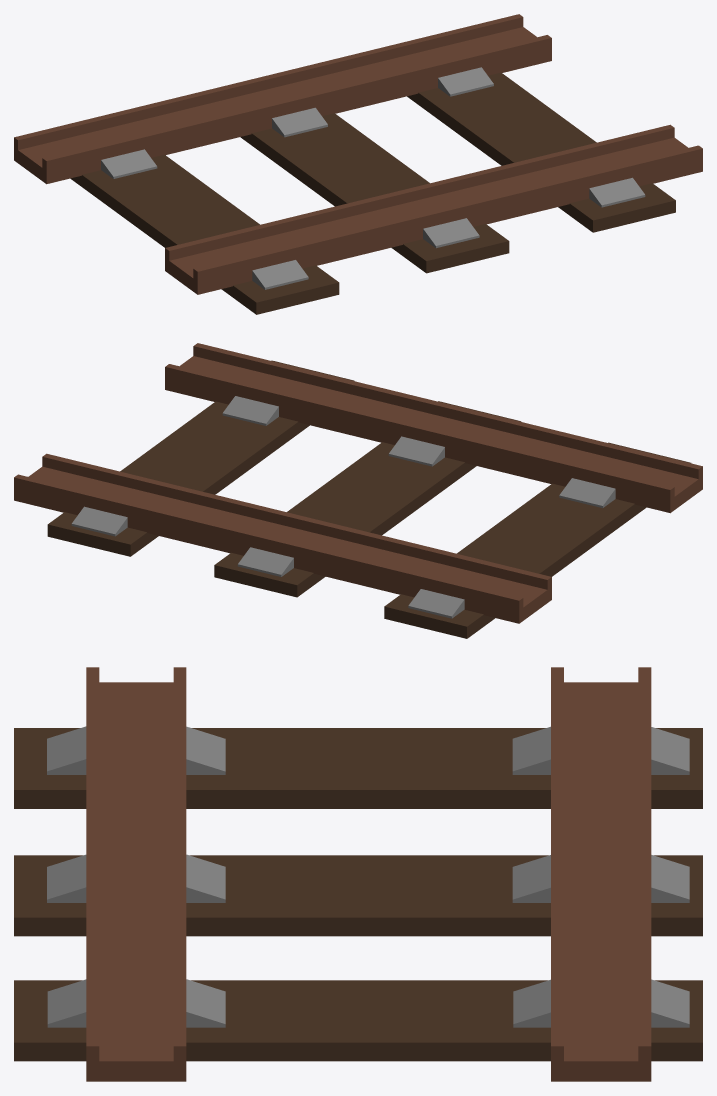
Rendered from Rail mine 5.fbx.
The picture shows the model from 3 angles, top to bottom: view 1: azimuth 30°, elevation 25°; view 2: azimuth 150°, elevation 25°; view 3: azimuth 270°, elevation 25°; orthographic projection. The views are drawn at different scales.
Visible parts, largest first — view 1: rail tout droit.001, planche rail 3, planche rail 2, planche rail1, soutien rail 1.004, soutien rail 1.003, soutien rail 1.002, soutien rail 1.005, soutien rail 1.006, soutien rail 1.007; view 2: rail tout droit.001, planche rail 3, planche rail1, planche rail 2, soutien rail 2.001, soutien rail 1, soutien rail 2, soutien rail 2.002, soutien rail 1.001, soutien rail 2.003; view 3: rail tout droit.001, planche rail 3, planche rail1, planche rail 2, soutien rail 1, soutien rail 1.004, soutien rail 1.002, soutien rail 1.003, soutien rail 2, soutien rail 2.001, soutien rail 1.001, soutien rail 1.005 (+4 smaller).
Part boxes in pixels (x1=…): rail tout droit.001: x1=14, y1=14, x2=702, y2=294; planche rail 3: x1=407, y1=72, x2=675, y2=232; planche rail 2: x1=70, y1=154, x2=339, y2=314; planche rail1: x1=240, y1=113, x2=509, y2=273; soutien rail 1.004: x1=252, y1=260, x2=308, y2=289; soutien rail 1.003: x1=423, y1=218, x2=479, y2=248; soutien rail 1.002: x1=589, y1=177, x2=645, y2=207; soutien rail 1.005: x1=101, y1=149, x2=157, y2=178; soutien rail 1.006: x1=272, y1=107, x2=327, y2=137; soutien rail 1.007: x1=438, y1=67, x2=493, y2=96; rail tout droit.001: x1=14, y1=343, x2=702, y2=623; planche rail 3: x1=47, y1=360, x2=354, y2=556; planche rail1: x1=214, y1=401, x2=521, y2=597; planche rail 2: x1=384, y1=442, x2=690, y2=638; soutien rail 2.001: x1=559, y1=478, x2=615, y2=508; soutien rail 1: x1=222, y1=396, x2=278, y2=425; soutien rail 2: x1=388, y1=436, x2=444, y2=466; soutien rail 2.002: x1=408, y1=589, x2=464, y2=618; soutien rail 1.001: x1=71, y1=506, x2=127, y2=536; soutien rail 2.003: x1=237, y1=547, x2=293, y2=576; rail tout droit.001: x1=86, y1=667, x2=651, y2=1081; planche rail 3: x1=14, y1=980, x2=702, y2=1061; planche rail1: x1=14, y1=855, x2=702, y2=936; planche rail 2: x1=14, y1=728, x2=702, y2=808; soutien rail 1: x1=186, y1=979, x2=225, y2=1027; soutien rail 1.004: x1=47, y1=726, x2=86, y2=774; soutien rail 1.002: x1=47, y1=979, x2=86, y2=1027; soutien rail 1.003: x1=47, y1=854, x2=86, y2=902; soutien rail 2: x1=186, y1=854, x2=225, y2=902; soutien rail 2.001: x1=186, y1=726, x2=225, y2=774; soutien rail 1.001: x1=651, y1=979, x2=689, y2=1027; soutien rail 1.005: x1=512, y1=726, x2=550, y2=774.
Bounding box in the file's own units: 698 × 45.54 × 536.
